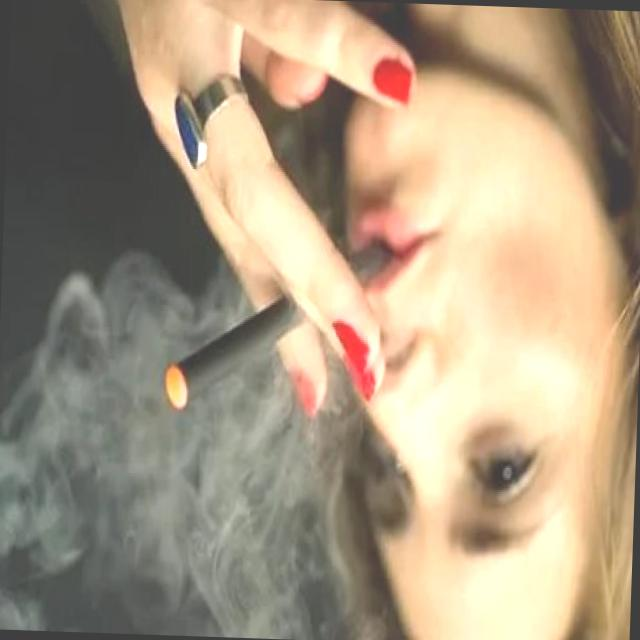smoke: (160, 230, 394, 425)
